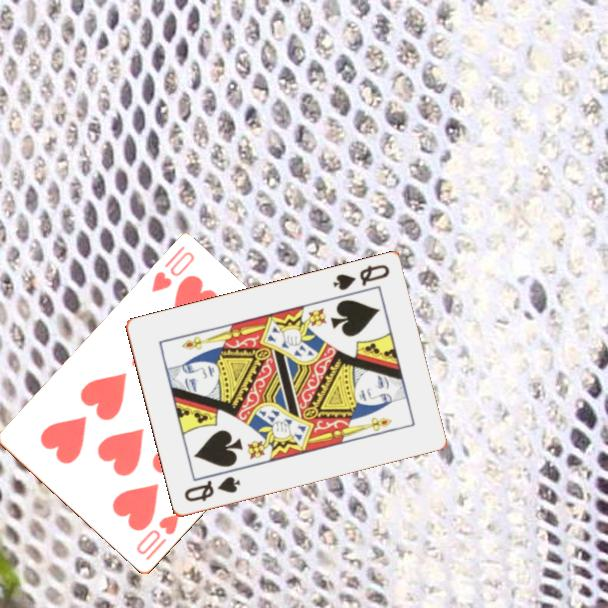h10: (148, 242, 198, 296), (133, 510, 182, 564)
s12: (329, 261, 392, 294), (180, 473, 243, 505)
